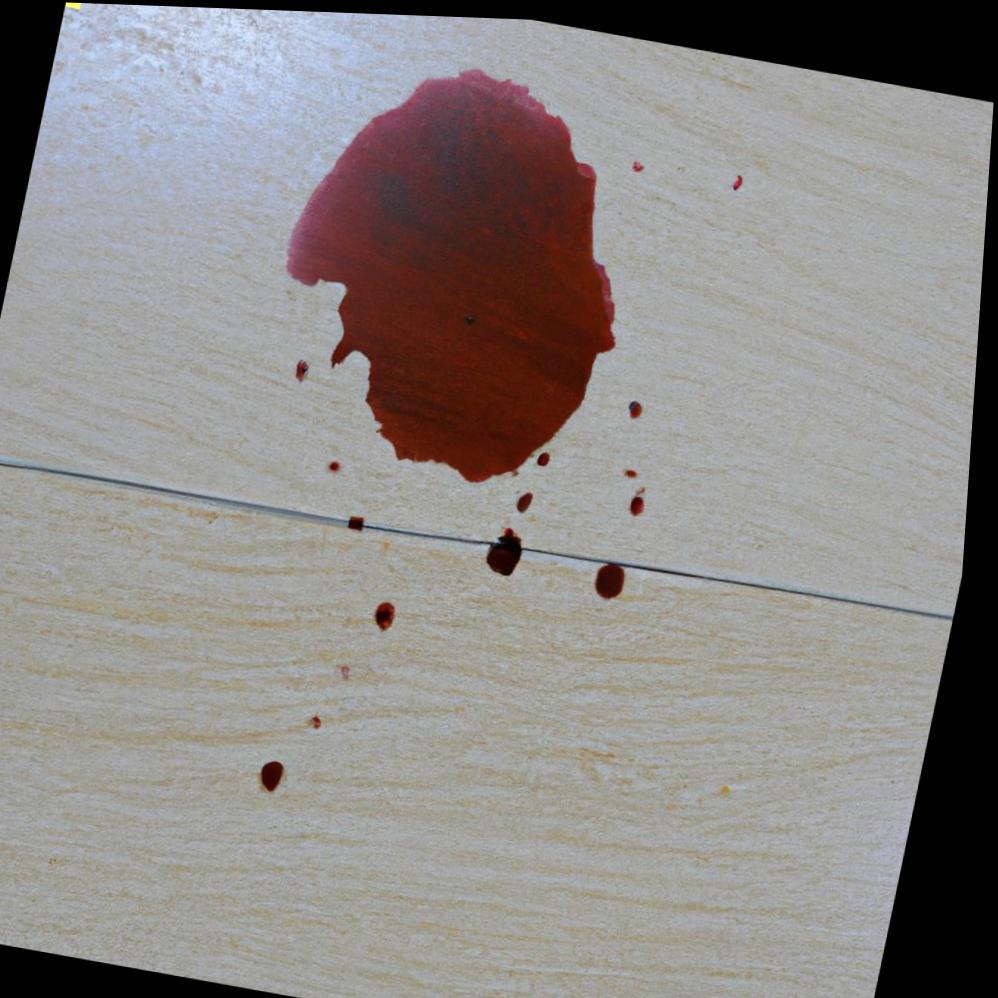Fire: (288, 65, 619, 479), (493, 524, 529, 573), (601, 558, 632, 595), (271, 758, 294, 790), (382, 598, 402, 628), (523, 487, 539, 509), (635, 490, 650, 512), (542, 447, 555, 462)
